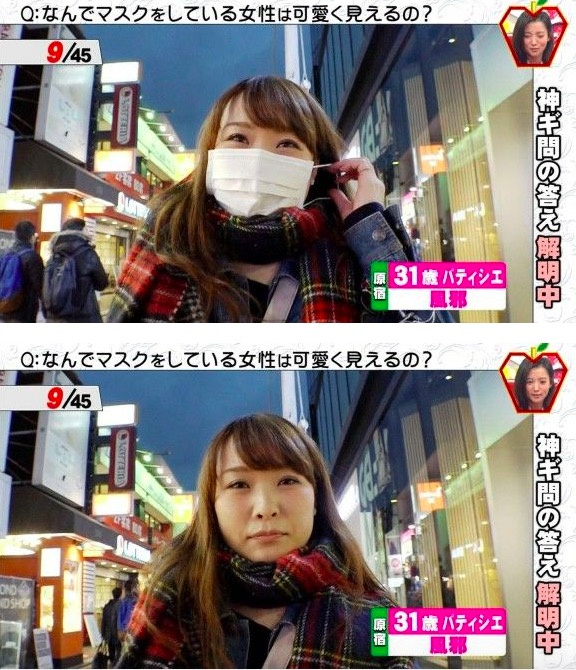mask: (205, 149, 314, 218)
